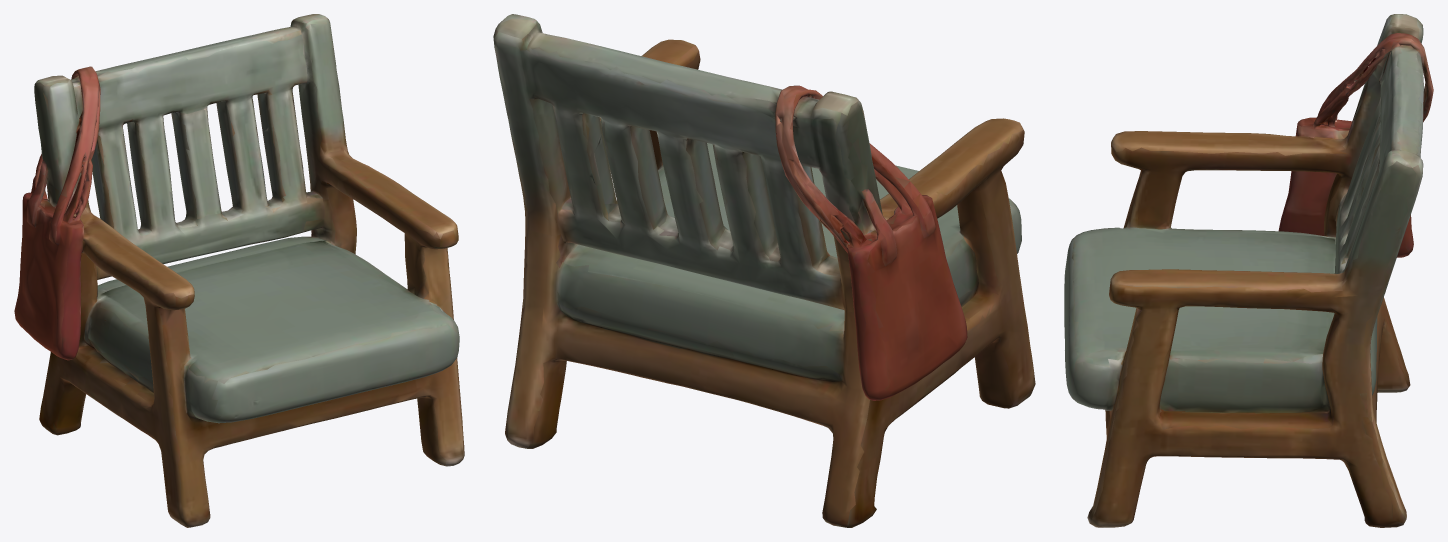
The model's file is sc-reading-seat.glb.
3 views of the same model, side by side, from view 1: azimuth 30°, elevation 25°; view 2: azimuth 150°, elevation 25°; view 3: azimuth 270°, elevation 25° (orthographic). The views are drawn at different scales.
Parts seen in each view (by area): view 1: geometry_0; view 2: geometry_0; view 3: geometry_0.
Boxes of the visible parts, left/top/right/bottom form: geometry_0: left=14, top=14, right=464, bottom=527; geometry_0: left=493, top=14, right=1035, bottom=527; geometry_0: left=1064, top=14, right=1433, bottom=527.
Bounding box in the file's own units: 0.992 × 1 × 0.908.
1 material, 1 textured.
